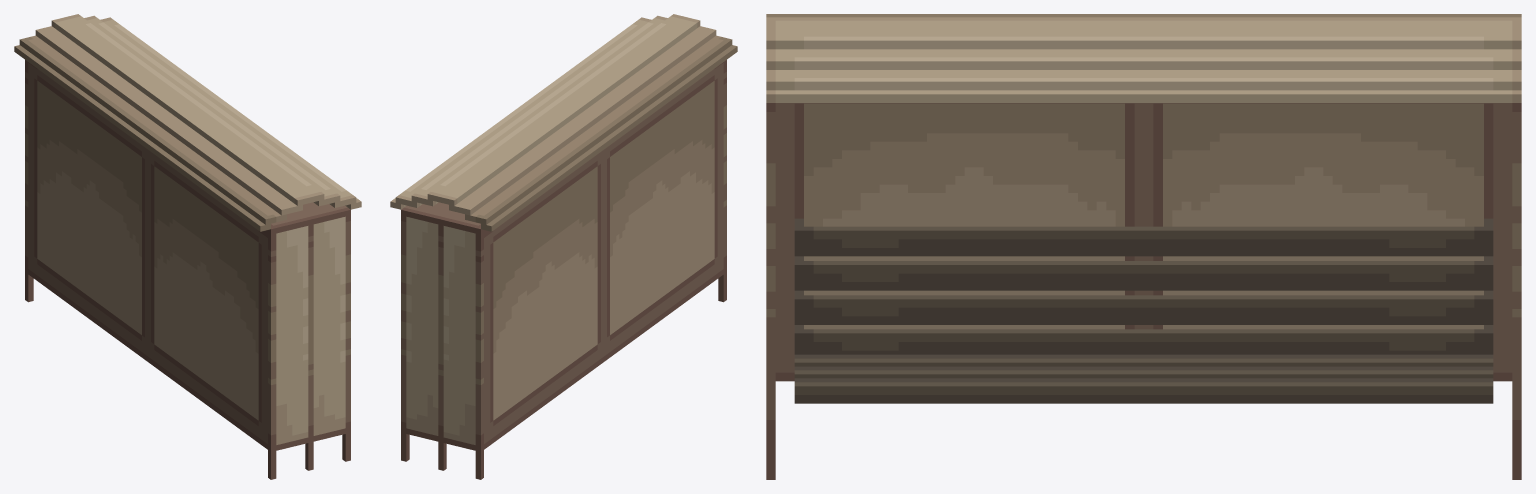
The model's file is Voxel City-7-Bus Stop.obj.
3 renders of one model, left to right at view 1: azimuth 30°, elevation 25°; view 2: azimuth 150°, elevation 25°; view 3: azimuth 270°, elevation 25°, orthographic. The views are drawn at different scales.
Visible parts, largest first — view 1: Bus Stop; view 2: Bus Stop; view 3: Bus Stop.
Boxes of the visible parts, x1,y1,x2,y2 form: Bus Stop: (14, 14, 361, 479); Bus Stop: (390, 14, 737, 479); Bus Stop: (766, 14, 1521, 479).
Size of the model in its own units: 0.95 by 2.45 by 4.
1 material, 1 textured.
